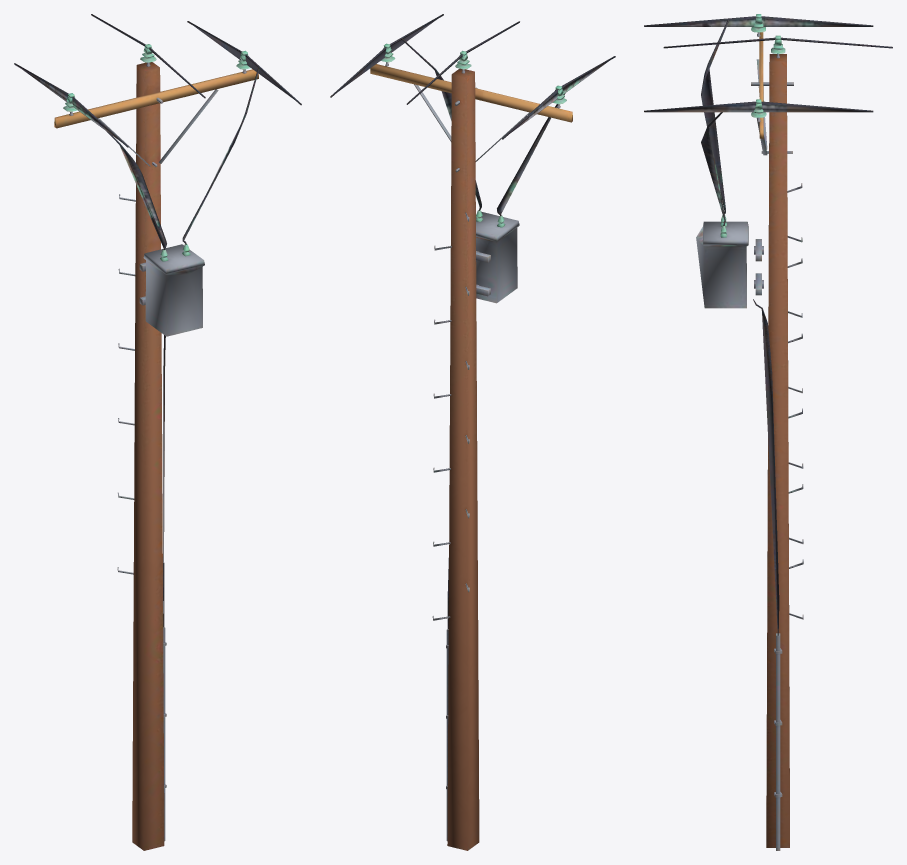
File: power-pole.glb
3 views of the same model, side by side, from view 1: azimuth 30°, elevation 25°; view 2: azimuth 150°, elevation 25°; view 3: azimuth 270°, elevation 25° (orthographic).
Visible parts, largest first — view 1: power-pole_body; view 2: power-pole_body; view 3: power-pole_body.
Part boxes in pixels (<box>): power-pole_body: <box>14,14,301,850</box>; power-pole_body: <box>330,14,615,850</box>; power-pole_body: <box>644,14,892,850</box>.
Size of the model in its own units: 2.39 by 8.99 by 2.51.
1 material, 1 textured.
